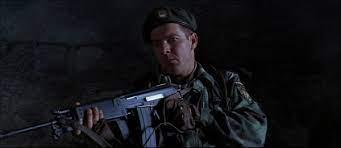rifle: (1, 75, 190, 148)
